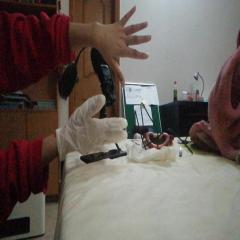gloved: (57, 93, 128, 151)
not-gloved: (82, 6, 152, 86)
